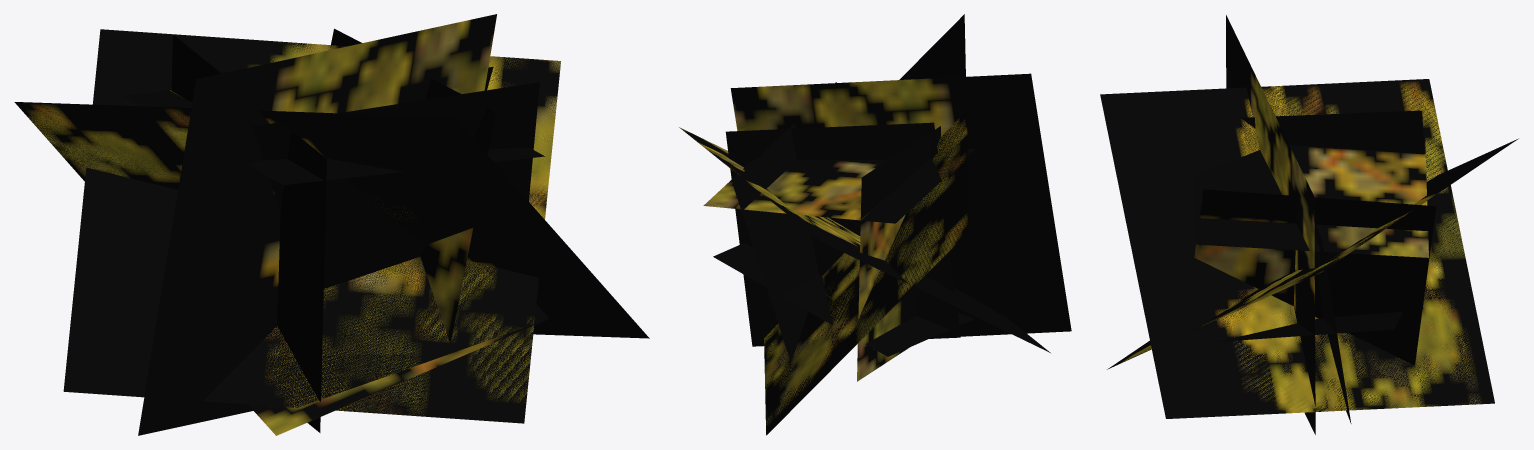
Rendered from beech_leaves_orangeish_vertical_slab_4.obj.
The picture shows the model from 3 angles, left to right: view 1: azimuth 30°, elevation 25°; view 2: azimuth 150°, elevation 25°; view 3: azimuth 270°, elevation 25°; orthographic projection. The views are drawn at different scales.
Parts seen in each view (by area): view 1: cube; view 2: cube; view 3: cube.
Boxes of the visible parts, x1,y1,x2,y2 form: cube: [14, 14, 649, 435]; cube: [679, 14, 1071, 435]; cube: [1100, 15, 1518, 434].
Size of the model in its own units: 2.85 by 2.25 by 2.69.
